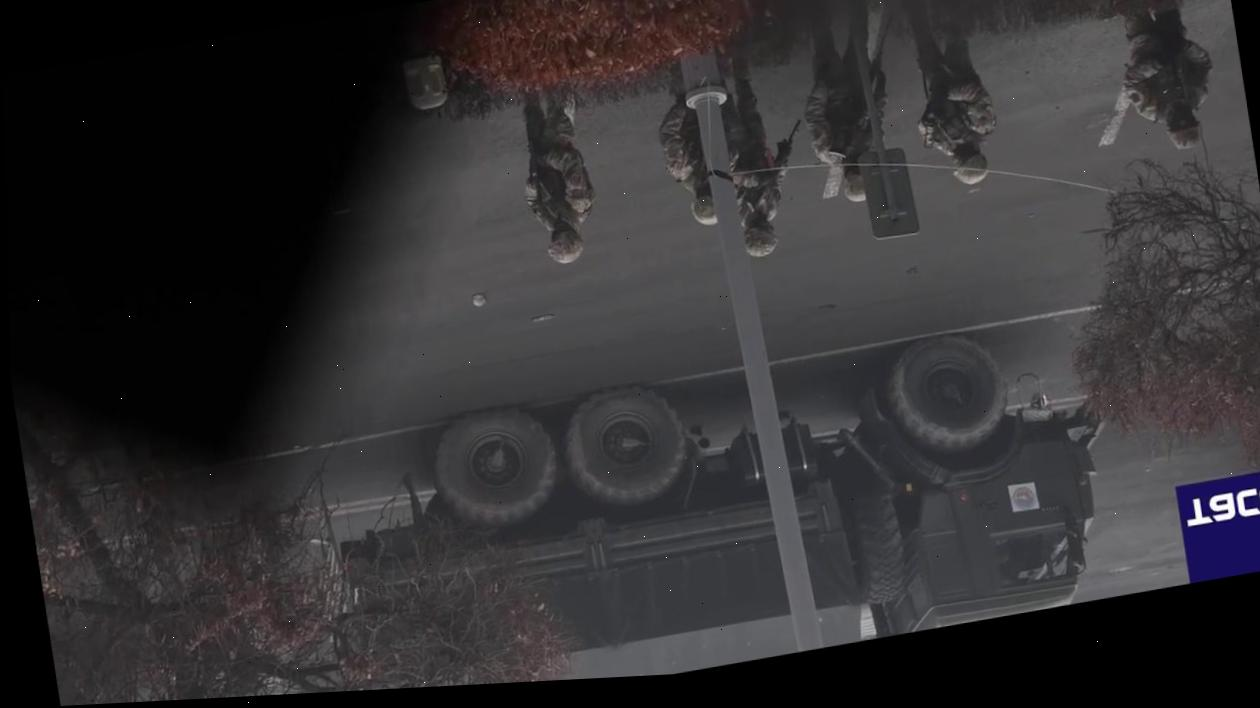person: (790, 10, 916, 209), (712, 51, 820, 262), (898, 0, 1008, 192), (648, 42, 747, 235), (509, 80, 605, 270), (1112, 0, 1226, 156)
truck: (298, 304, 1139, 693)
